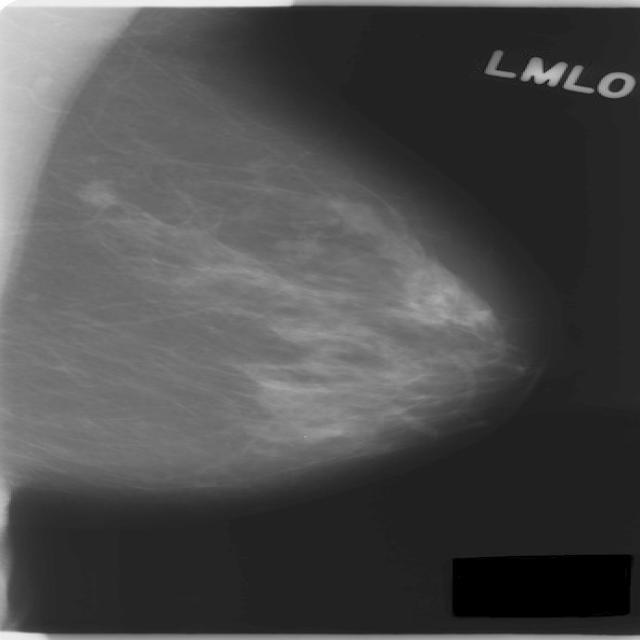tumour: (72, 178, 115, 207)
